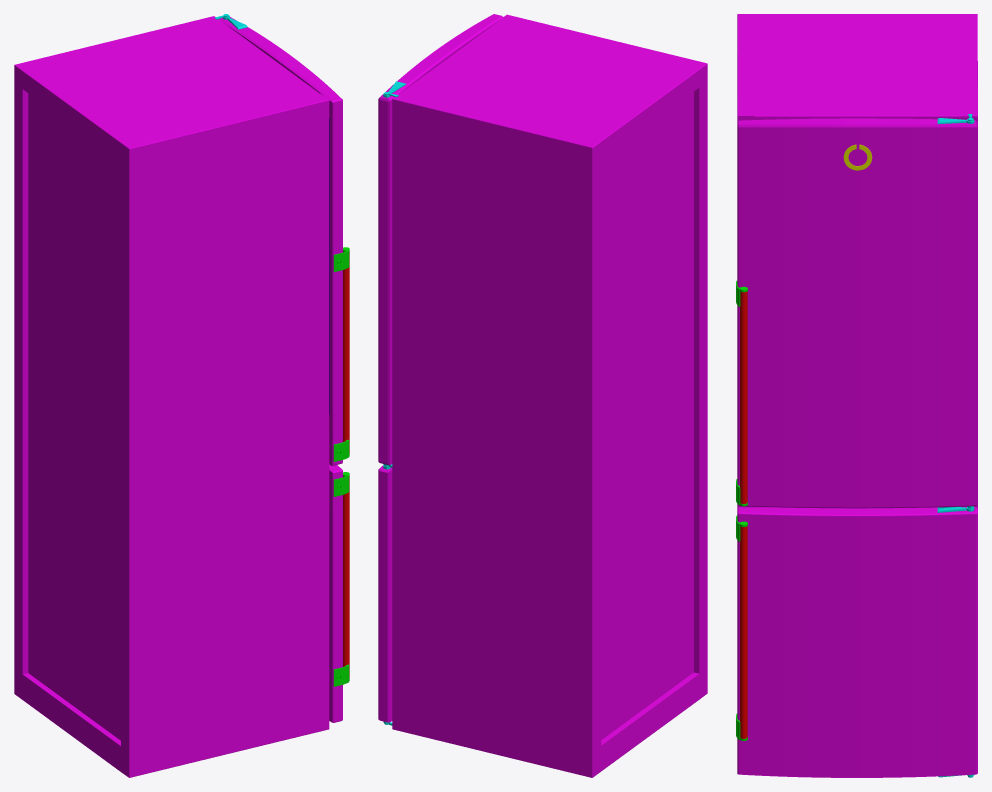
File: R_Refrigerator.fbx
The picture shows the model from 3 angles, left to right: view 1: azimuth 30°, elevation 25°; view 2: azimuth 150°, elevation 25°; view 3: azimuth 270°, elevation 25°; orthographic projection. The views are drawn at different scales.
Visible parts, largest first — view 1: R_Refrigerator_Main_Cage, R_Refrigerator_Handle, R_Refrigerator_Handle_Support; view 2: R_Refrigerator_Main_Cage; view 3: R_Refrigerator_Main_Cage, R_Refrigerator_Handle, R_Refrigerator_Handle_Support, R_Refrigerator_Door_Support.
Boxes of the visible parts, left/top/right/bottom form: R_Refrigerator_Main_Cage: left=14, top=16, right=342, bottom=777; R_Refrigerator_Handle: left=343, top=251, right=349, bottom=678; R_Refrigerator_Handle_Support: left=333, top=247, right=349, bottom=686; R_Refrigerator_Main_Cage: left=378, top=14, right=707, bottom=777; R_Refrigerator_Main_Cage: left=737, top=14, right=977, bottom=777; R_Refrigerator_Handle: left=740, top=291, right=747, bottom=738; R_Refrigerator_Handle_Support: left=736, top=280, right=747, bottom=740; R_Refrigerator_Door_Support: left=937, top=114, right=974, bottom=777.
Size of the model in its own units: 5.35 by 14.46 by 4.81.
